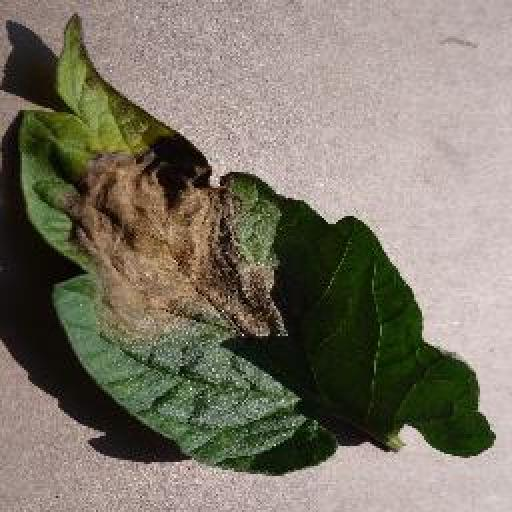Late Blight: (19, 10, 497, 478)
